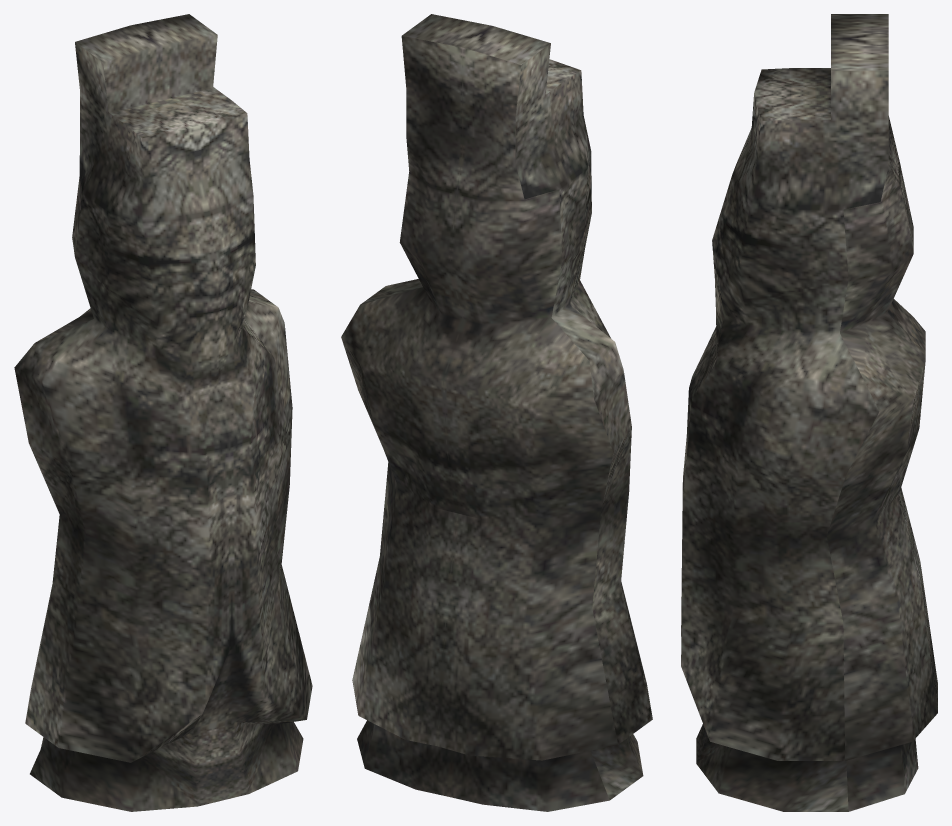
3 renders of one model, left to right at view 1: azimuth 30°, elevation 25°; view 2: azimuth 150°, elevation 25°; view 3: azimuth 270°, elevation 25°, orthographic. The views are drawn at different scales.
Parts seen in each view (by area): view 1: ob-12-06; view 2: ob-12-06; view 3: ob-12-06.
Part boxes in pixels (x1,y1,x2,y2): ob-12-06: [14, 14, 312, 811]; ob-12-06: [341, 14, 652, 811]; ob-12-06: [681, 14, 937, 811].
Size of the model in its own units: 2.13 by 5.67 by 1.84.
